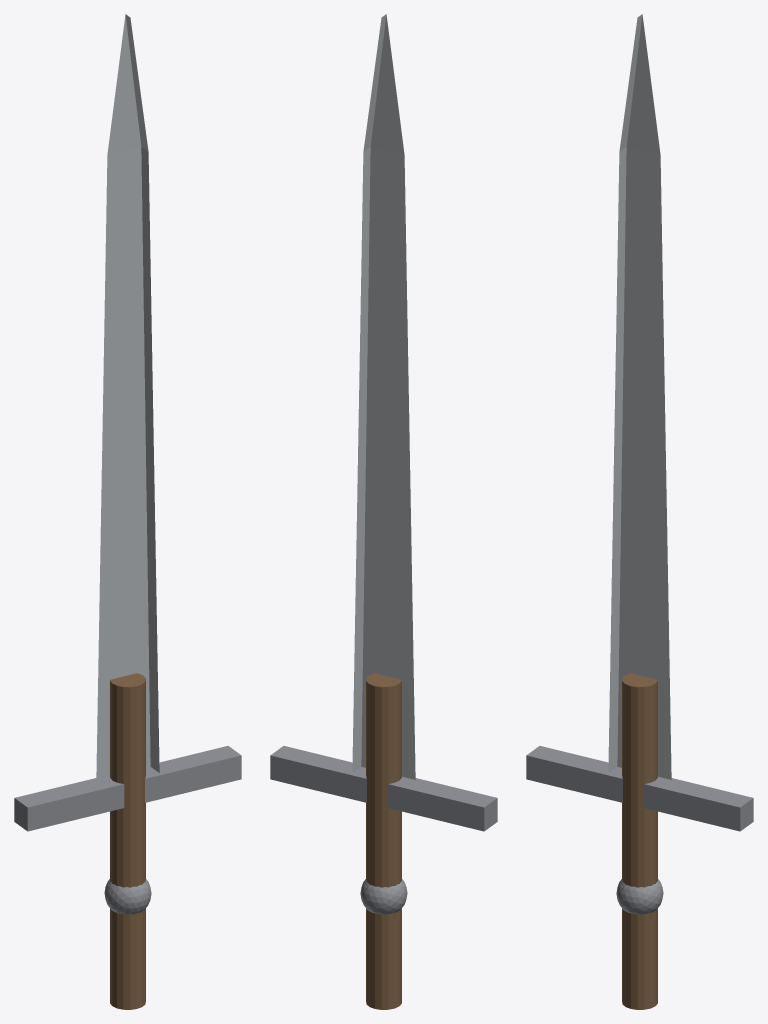
The model's file is greatsword.glb.
3 views of the same model, side by side, from view 1: azimuth 30°, elevation 25°; view 2: azimuth 150°, elevation 25°; view 3: azimuth 330°, elevation 25° (orthographic).
Visible parts, largest first — view 1: sword_0_0, sword_0_2, sword_0_1, sword_0_3; view 2: sword_0_0, sword_0_2, sword_0_1, sword_0_3; view 3: sword_0_0, sword_0_2, sword_0_1, sword_0_3.
Part boxes in pixels (left/top/right/bottom): sword_0_0: left=96, top=14, right=159, bottom=779; sword_0_2: left=110, top=673, right=145, bottom=1009; sword_0_1: left=14, top=746, right=241, bottom=831; sword_0_3: left=104, top=879, right=151, bottom=914; sword_0_0: left=352, top=14, right=415, bottom=779; sword_0_2: left=366, top=673, right=401, bottom=1009; sword_0_1: left=270, top=746, right=497, bottom=831; sword_0_3: left=360, top=879, right=407, bottom=914; sword_0_0: left=608, top=14, right=671, bottom=779; sword_0_2: left=622, top=673, right=657, bottom=1009; sword_0_1: left=526, top=746, right=753, bottom=831; sword_0_3: left=616, top=879, right=663, bottom=914.
Bounding box in the file's own units: 2.05 × 9.04 × 0.3915.
